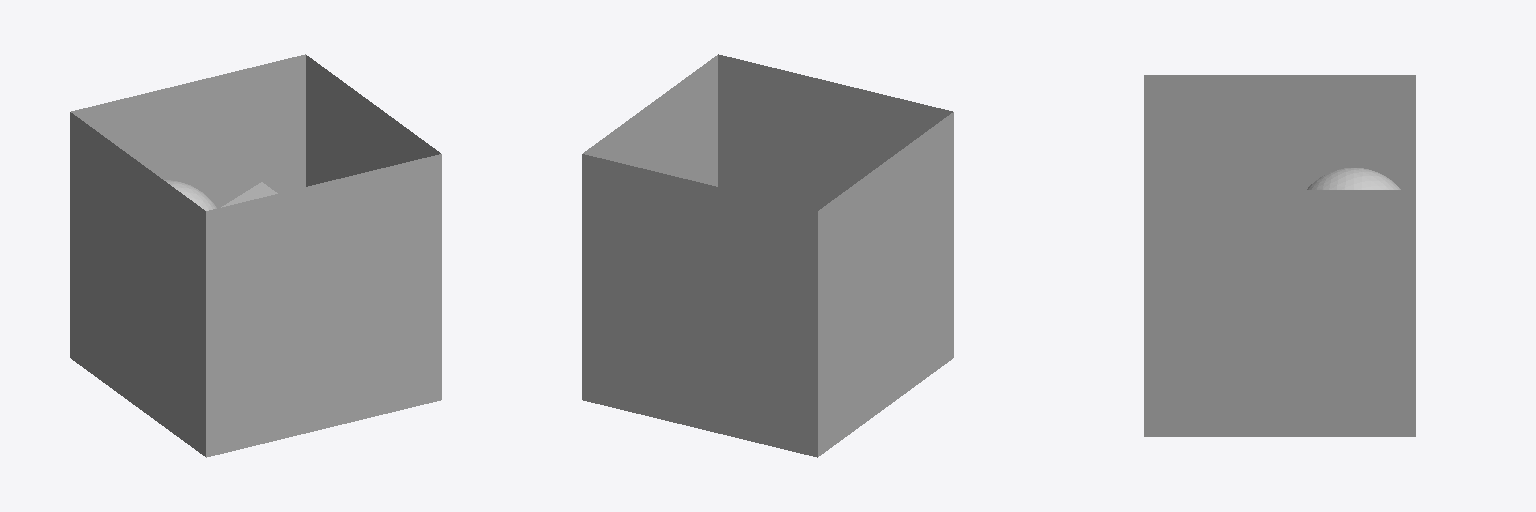
Rendered from Cornell_fake2.obj.
The picture shows the model from 3 angles: view 1: azimuth 30°, elevation 25°; view 2: azimuth 150°, elevation 25°; view 3: azimuth 270°, elevation 25°; orthographic projection.
Parts seen in each view (by area): view 1: Plane.001; view 2: Plane.001; view 3: Plane.001.
Boxes of the visible parts, box(x1,y1,x2,y2) form: Plane.001: box(70, 54, 441, 457); Plane.001: box(582, 54, 953, 457); Plane.001: box(1144, 75, 1415, 436).
Bounding box in the file's own units: 7 × 7 × 7.